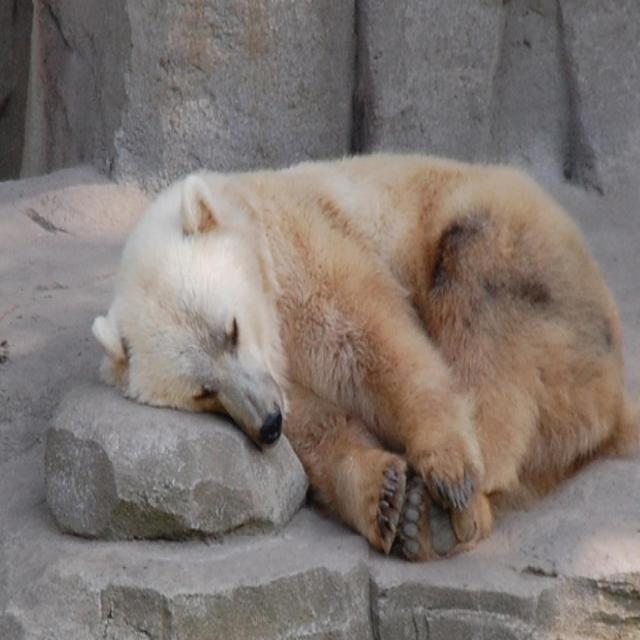Bear: (91, 155, 640, 563)
